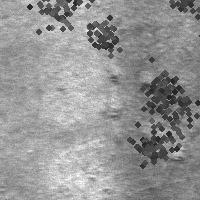rolled-in_scale: (106, 71, 197, 168), (128, 65, 200, 149), (120, 113, 182, 175), (131, 57, 191, 117), (20, 0, 96, 39), (76, 9, 126, 59), (155, 0, 200, 28)
